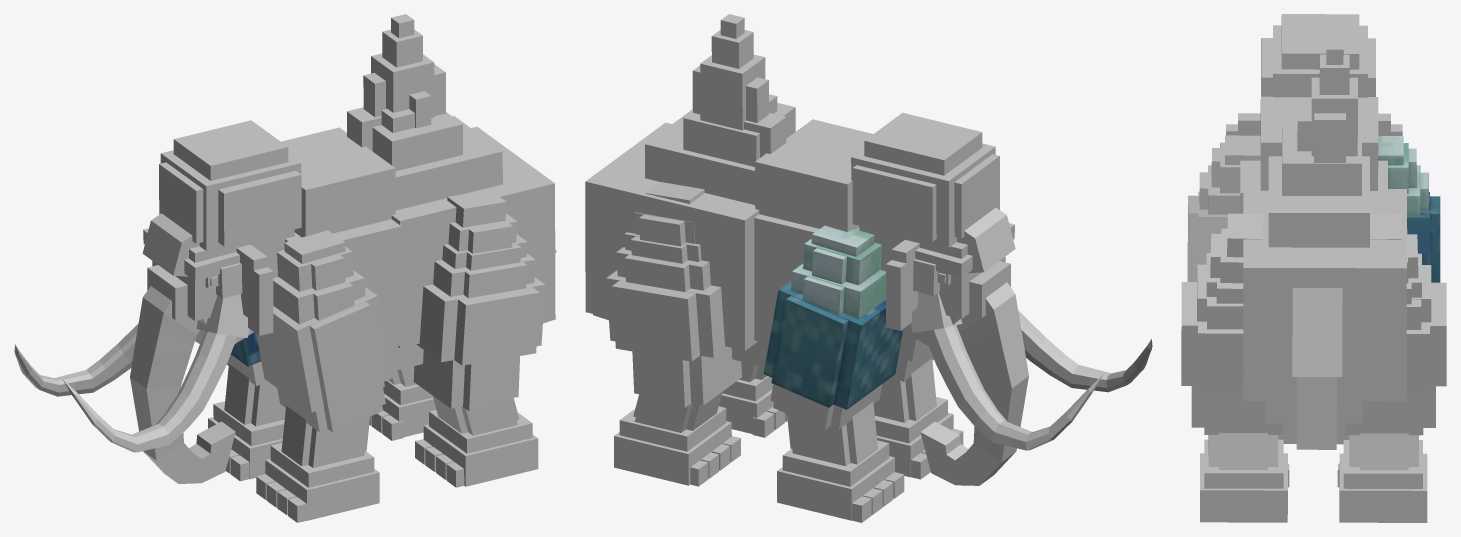
The model's file is elderfrost_mammoth.obj.
The picture shows the model from 3 angles, left to right: view 1: azimuth 30°, elevation 25°; view 2: azimuth 150°, elevation 25°; view 3: azimuth 270°, elevation 25°; orthographic projection. The views are drawn at different scales.
Visible parts, largest first — view 1: Cube.041, Cube.010, Cube.019, Cube.047, Cube.039, Cube.005, Cube.014, Cube.022, Cube.036, Cube.020, Cube.013, Cube.001 (+15 smaller); view 2: Cube.041, Cube.015, Cube.047, Cube.023, Cube.039, Cube.005, Cube.018, Cube.026, Cube.001, Cube.024, Cube.017, Cube.036 (+15 smaller); view 3: Cube.041, Cube.019, Cube.047, Cube.023, Cube.026, Cube.022, Cube.010, Cube.039, Cube.043, Cube.015, Cube.044, Cube.020 (+5 smaller).
Boxes of the visible parts, x1,y1,x2,y2 form: Cube.041: (347, 14, 555, 370); Cube.010: (256, 230, 392, 412); Cube.019: (416, 190, 545, 365); Cube.047: (159, 120, 301, 250); Cube.039: (281, 127, 401, 375); Cube.005: (142, 213, 294, 320); Cube.014: (256, 443, 379, 522); Cube.022: (415, 410, 538, 487); Cube.036: (62, 331, 236, 452); Cube.020: (413, 350, 519, 411); Cube.013: (281, 405, 369, 467); Cube.001: (14, 323, 138, 396); Cube.041: (585, 14, 795, 365); Cube.015: (763, 225, 902, 409); Cube.047: (851, 112, 999, 247); Cube.023: (606, 182, 727, 361); Cube.039: (754, 119, 872, 370); Cube.005: (859, 208, 1015, 318); Cube.018: (777, 440, 904, 522); Cube.026: (614, 406, 740, 486); Cube.001: (923, 325, 1103, 450); Cube.024: (632, 347, 741, 407); Cube.017: (787, 402, 877, 466); Cube.036: (1018, 310, 1152, 392); Cube.041: (1243, 42, 1406, 423); Cube.019: (1181, 213, 1263, 393); Cube.047: (1261, 14, 1375, 97); Cube.023: (1370, 214, 1446, 394); Cube.026: (1337, 440, 1427, 522); Cube.022: (1200, 439, 1289, 522); Cube.010: (1187, 135, 1260, 281); Cube.039: (1240, 96, 1387, 213); Cube.043: (1292, 288, 1342, 376); Cube.015: (1378, 136, 1440, 282); Cube.044: (1296, 377, 1336, 449); Cube.020: (1191, 386, 1282, 434).
Bounding box in the file's own units: 18.75 × 14.82 × 8.08.
